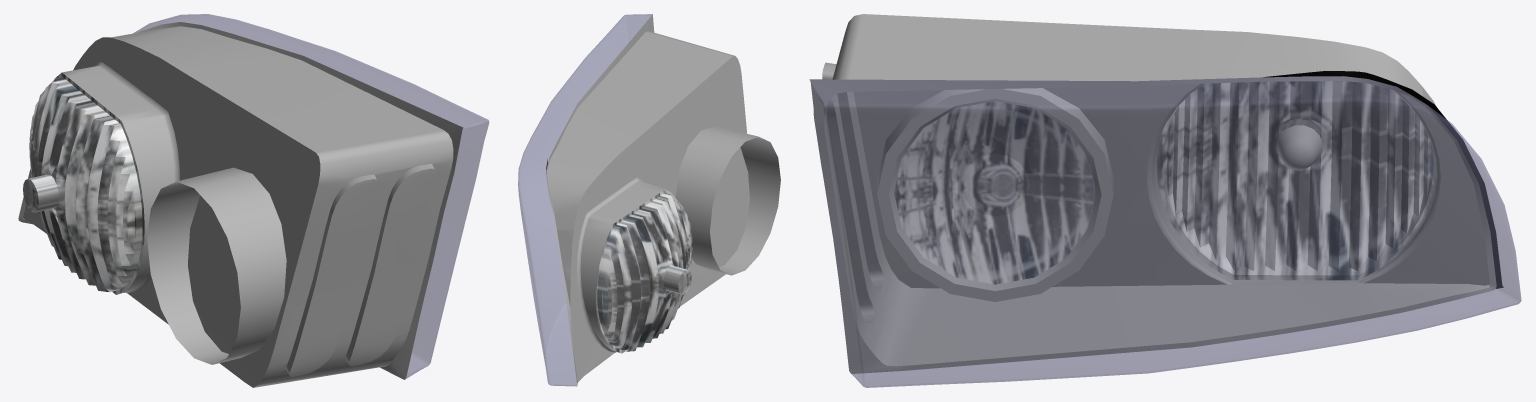
3 views of the same model, side by side, from view 1: azimuth 30°, elevation 25°; view 2: azimuth 150°, elevation 25°; view 3: azimuth 270°, elevation 25° (orthographic). The views are drawn at different scales.
Visible parts, largest first — view 1: P222_15_061B_L_1_N_P222_15_061B_L, P222_15_061B_L_P222_15_061B_L_3_N, P222_15_061B_L_P222_15_061B_L_4_DTaSI; view 2: P222_15_061B_L_1_N_P222_15_061B_L, P222_15_061B_L_P222_15_061B_L_3_N, P222_15_061B_L_P222_15_061B_L_4_DTaSI; view 3: P222_15_061B_L_P222_15_061B_L_4_DTaSI, P222_15_061B_L_1_N_P222_15_061B_L, P222_15_061B_L_P222_15_061B_L_3_N, P222_15_061B_L_P222_15_061B_L_2_D.
Part boxes in pixels (x1,y1,x2,y2): P222_15_061B_L_1_N_P222_15_061B_L: (18,22,463,387); P222_15_061B_L_P222_15_061B_L_3_N: (23,72,144,294); P222_15_061B_L_P222_15_061B_L_4_DTaSI: (133,14,489,379); P222_15_061B_L_1_N_P222_15_061B_L: (546,14,780,384); P222_15_061B_L_P222_15_061B_L_3_N: (595,189,692,353); P222_15_061B_L_P222_15_061B_L_4_DTaSI: (518,14,652,386); P222_15_061B_L_P222_15_061B_L_4_DTaSI: (810,76,1521,387); P222_15_061B_L_1_N_P222_15_061B_L: (809,14,1496,373); P222_15_061B_L_P222_15_061B_L_3_N: (894,81,1436,284); P222_15_061B_L_P222_15_061B_L_2_D: (1263,71,1503,288).
Bounding box in the file's own units: 22.51 × 20.27 × 40.76.
